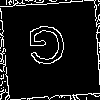G: (25, 25, 68, 75)
